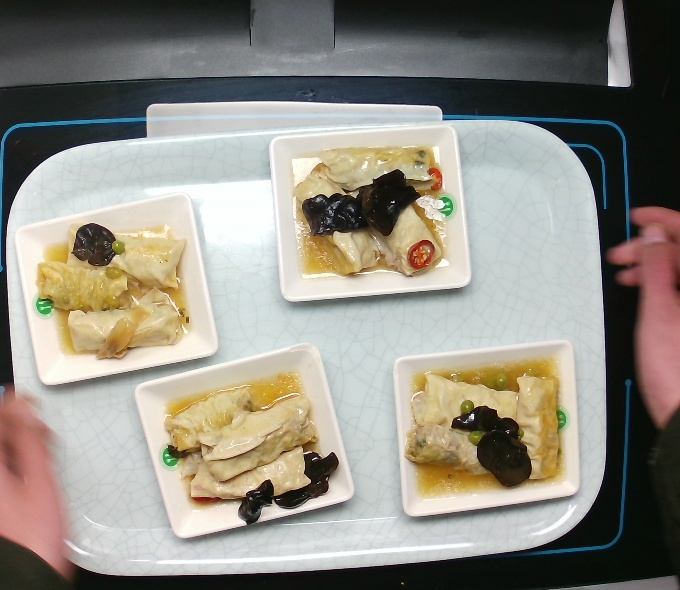wcq-QianZhangBao: (159, 382, 341, 526), (31, 217, 190, 365), (288, 143, 444, 281), (402, 367, 564, 490)
